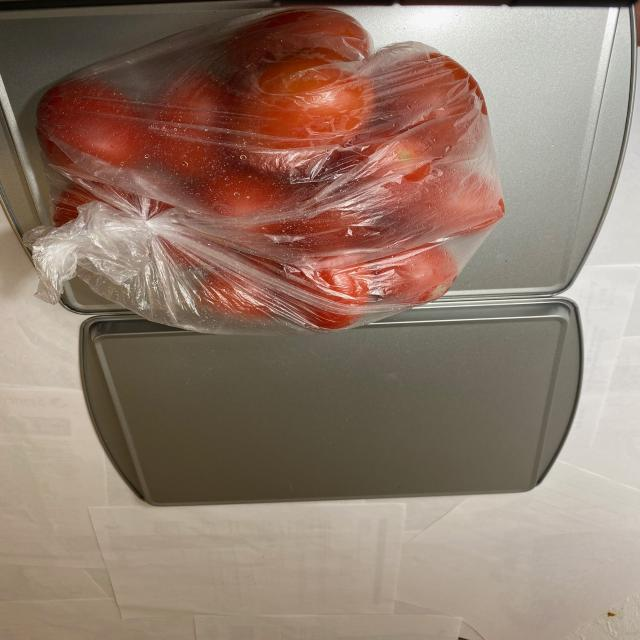tomato: (49, 18, 504, 328)
